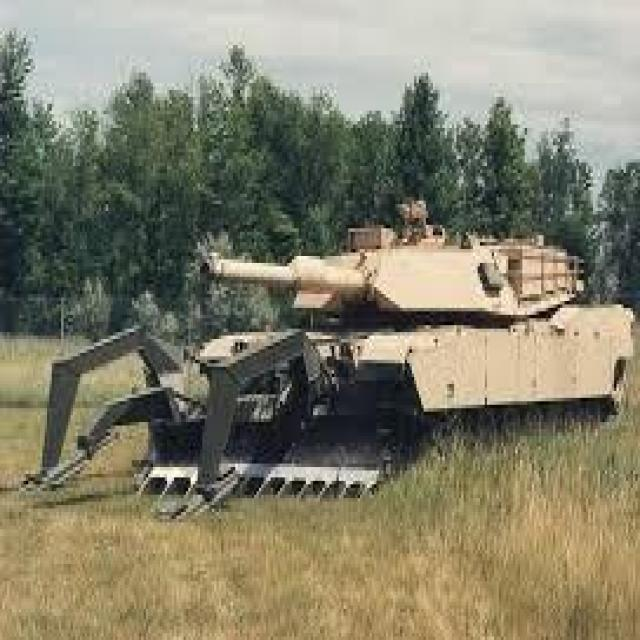Tanks: (30, 215, 630, 522)
